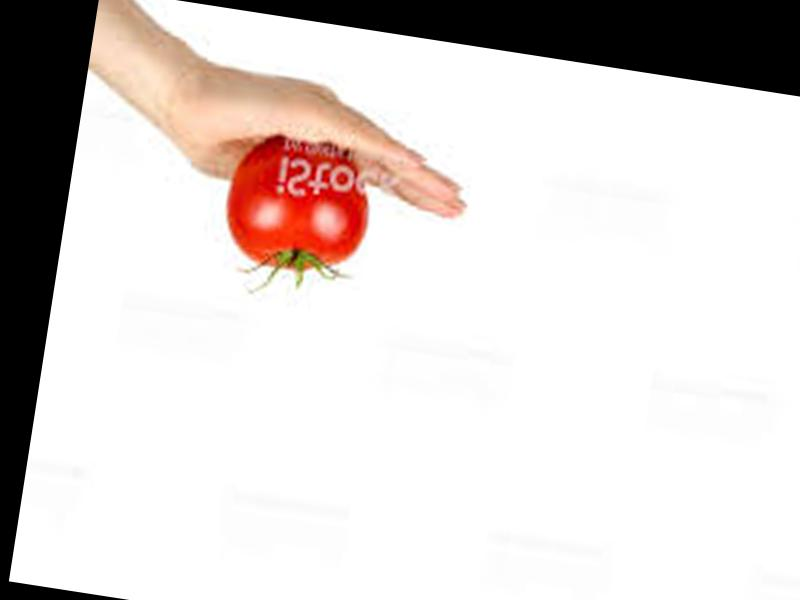Tomato: (217, 131, 375, 282)
